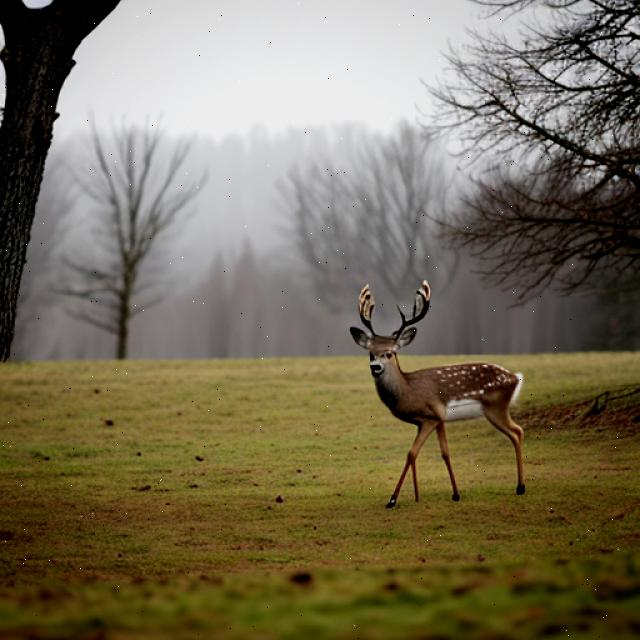deer: (325, 257, 543, 523)
